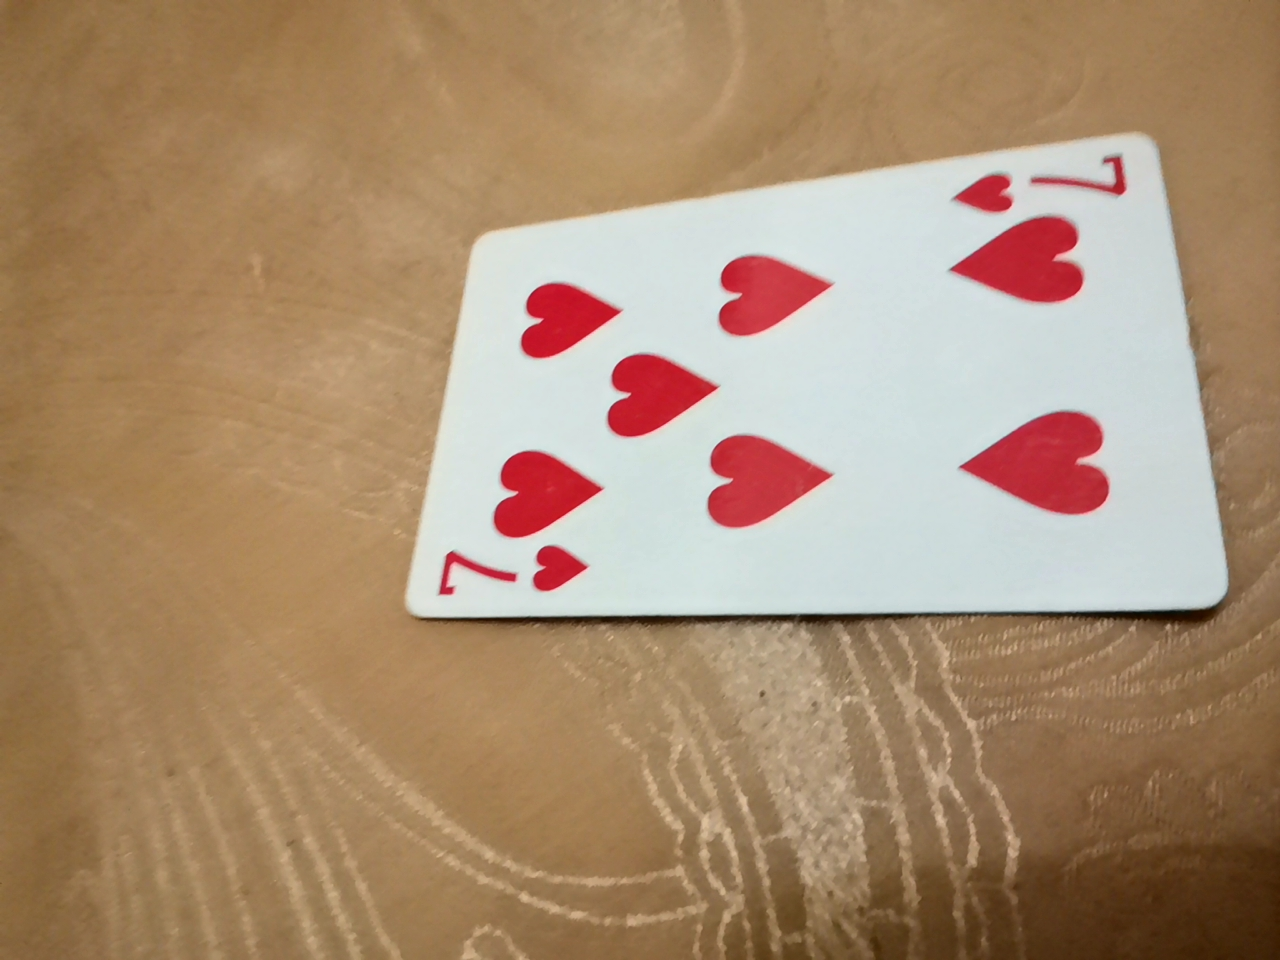hx 7: (349, 253, 1204, 688)
